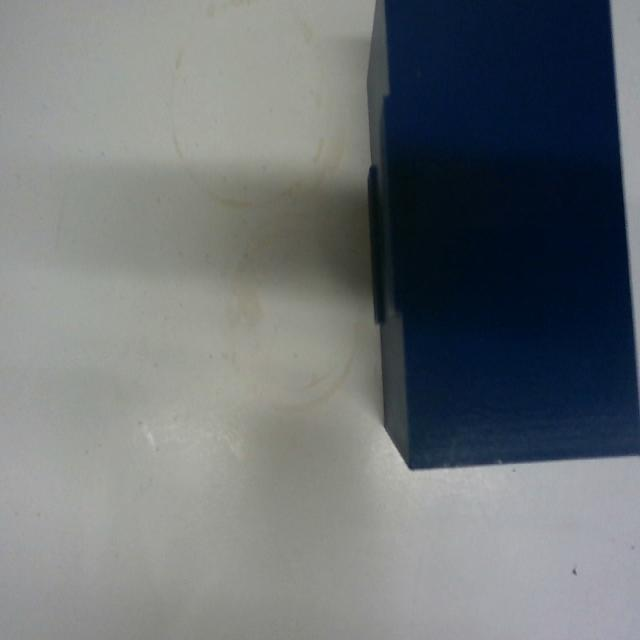Blue Cuboid: (363, 0, 639, 472)
